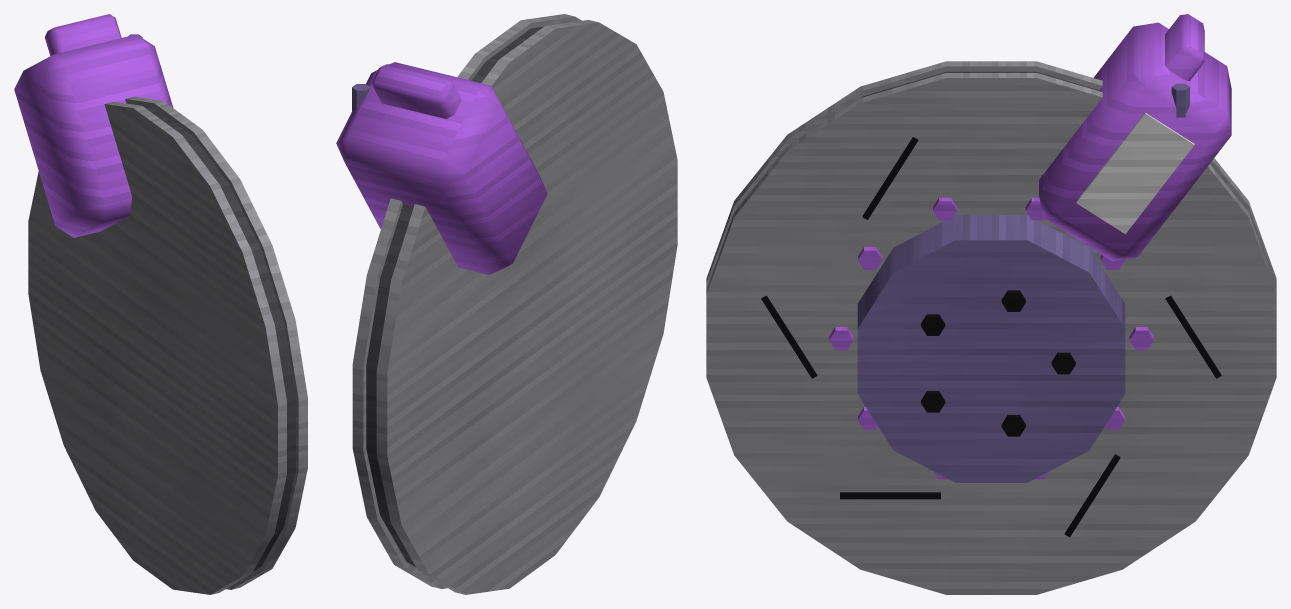
Rendered from discos_n5.glb.
The picture shows the model from 3 angles, left to right: view 1: azimuth 30°, elevation 25°; view 2: azimuth 150°, elevation 25°; view 3: azimuth 270°, elevation 25°; orthographic projection. The views are drawn at different scales.
Visible parts, largest first — view 1: discos_n5; view 2: discos_n5; view 3: discos_n5.
Boxes of the visible parts, bbox=[...] form: discos_n5: bbox=[14, 14, 307, 594]; discos_n5: bbox=[336, 14, 677, 594]; discos_n5: bbox=[706, 14, 1276, 594].
Bounding box in the file's own units: 0.105 × 0.4045 × 0.3753.
Materials: 2 (2 with a texture image).
